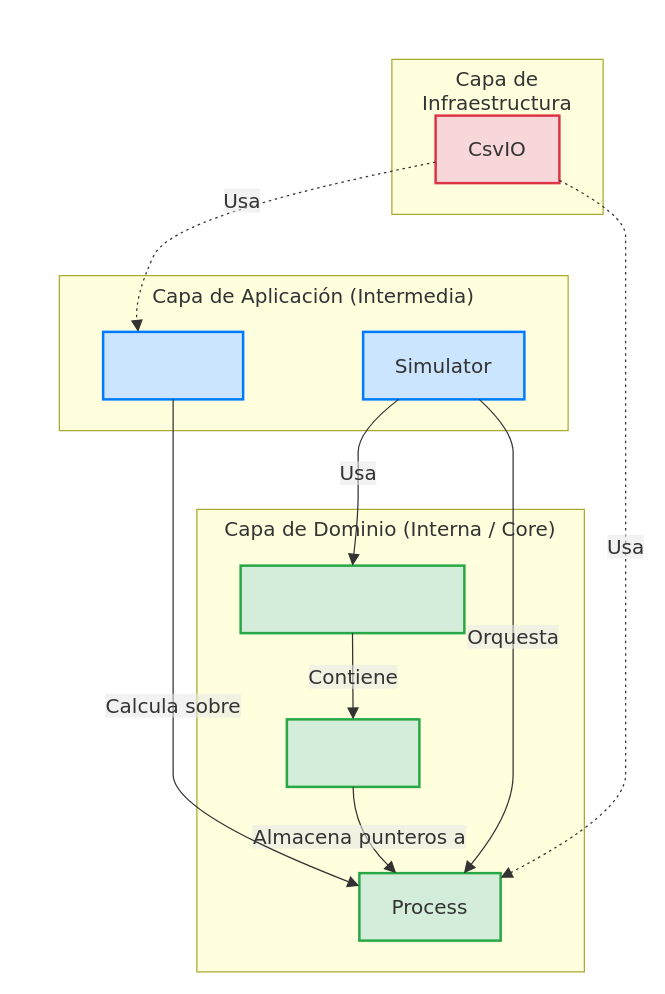
Image size: 665x994. Some labels were removed from this diagram. Here are the shapes that lost their labels. From the top down, the centre of each, then its label:
point 172,365: Metrics
point 352,599: SchedulingPolicy
point 352,753: Queue
